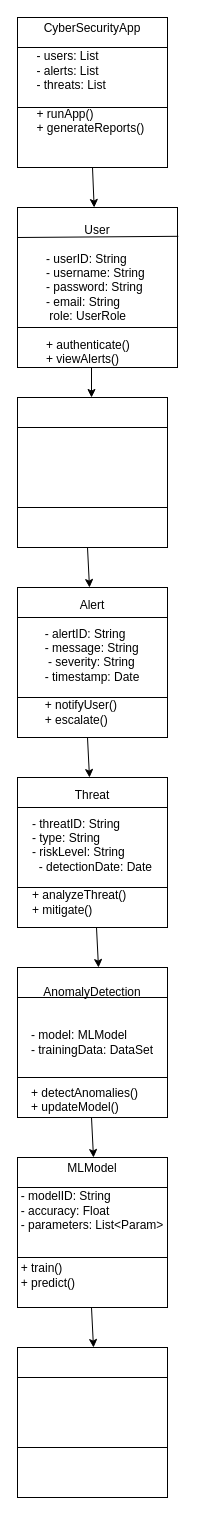
Some shapes in this 197 by 1515 pixel diagram are drawn without their labels. Each missing label, with the centre of its shape:
"Param - name: String - value : String + getParam() + setParam()" belongs at (x=92, y=1422).
"UserRole - roleName: String + assignRole()" belongs at (x=92, y=472).
